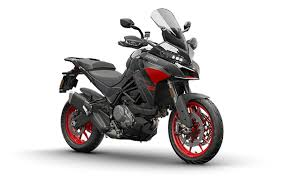motorcycle: (55, 7, 224, 163)
